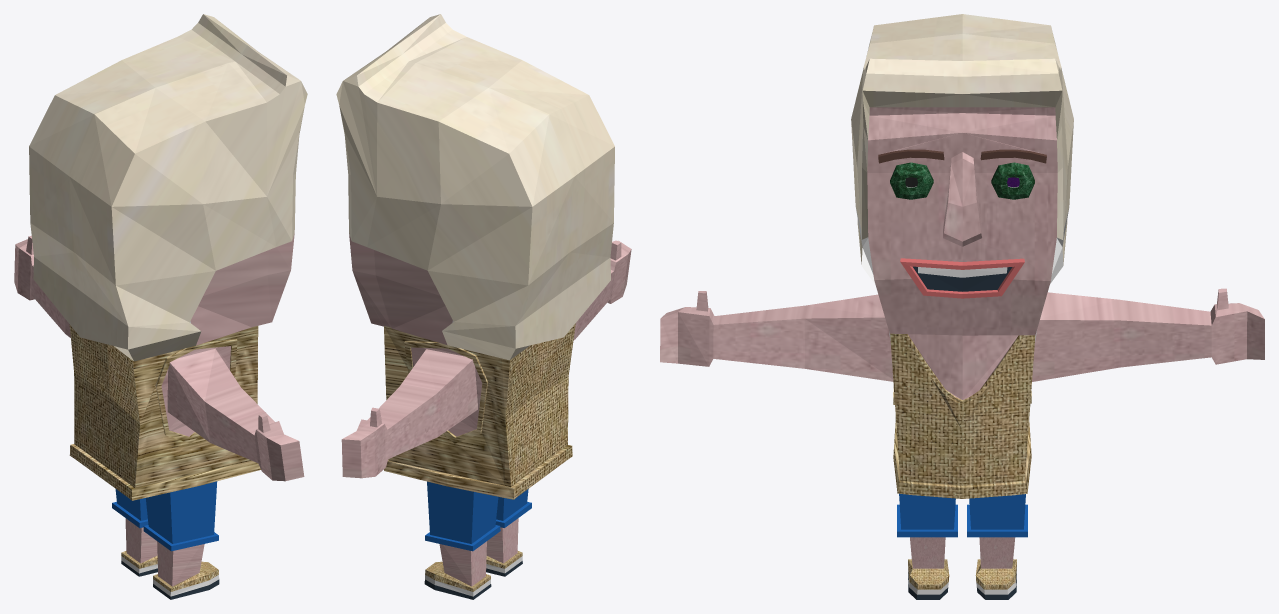
Rendered from chico_modified.gltf.
3 views of the same model, side by side, from view 1: azimuth 30°, elevation 25°; view 2: azimuth 150°, elevation 25°; view 3: azimuth 270°, elevation 25° (orthographic). The views are drawn at different scales.
Parts seen in each view (by area): view 1: mesh_21, mesh_6, mesh_14, mesh_15, mesh_12, mesh_16, mesh_17, mesh_18, mesh_10, mesh_2, mesh_9; view 2: mesh_21, mesh_6, mesh_16, mesh_15, mesh_12, mesh_14, mesh_18, mesh_17, mesh_11, mesh_2, mesh_9; view 3: mesh_15, mesh_21, mesh_6, mesh_16, mesh_14, mesh_12, mesh_5, mesh_19, mesh_7, mesh_0, mesh_2, mesh_8 (+5 smaller).
Boxes of the visible parts, x1,y1,x2,y2 form: mesh_21: [29, 14, 307, 361]; mesh_6: [69, 324, 260, 500]; mesh_14: [161, 346, 304, 481]; mesh_15: [190, 233, 294, 345]; mesh_12: [112, 481, 218, 551]; mesh_16: [14, 236, 70, 337]; mesh_17: [157, 541, 204, 586]; mesh_18: [125, 518, 157, 563]; mesh_10: [153, 561, 218, 591]; mesh_2: [121, 556, 219, 596]; mesh_9: [121, 561, 219, 599]; mesh_21: [336, 14, 614, 360]; mesh_6: [384, 323, 575, 499]; mesh_16: [341, 347, 482, 478]; mesh_15: [349, 233, 452, 344]; mesh_12: [425, 481, 531, 551]; mesh_14: [573, 240, 631, 340]; mesh_18: [439, 541, 486, 586]; mesh_17: [486, 518, 518, 563]; mesh_11: [425, 561, 490, 591]; mesh_2: [425, 556, 522, 596]; mesh_9: [424, 561, 522, 599]; mesh_15: [867, 107, 1057, 399]; mesh_21: [851, 14, 1073, 265]; mesh_6: [890, 333, 1035, 498]; mesh_16: [1032, 288, 1264, 381]; mesh_14: [660, 291, 893, 381]; mesh_12: [897, 493, 1027, 537]; mesh_5: [900, 258, 1024, 298]; mesh_19: [878, 149, 1046, 187]; mesh_7: [913, 266, 1012, 291]; mesh_0: [991, 162, 1034, 199]; mesh_2: [906, 186, 1018, 594]; mesh_8: [890, 162, 933, 199].
Size of the model in its own units: 2.52 by 5.94 by 5.75.
Materials: 13 (11 with a texture image).
